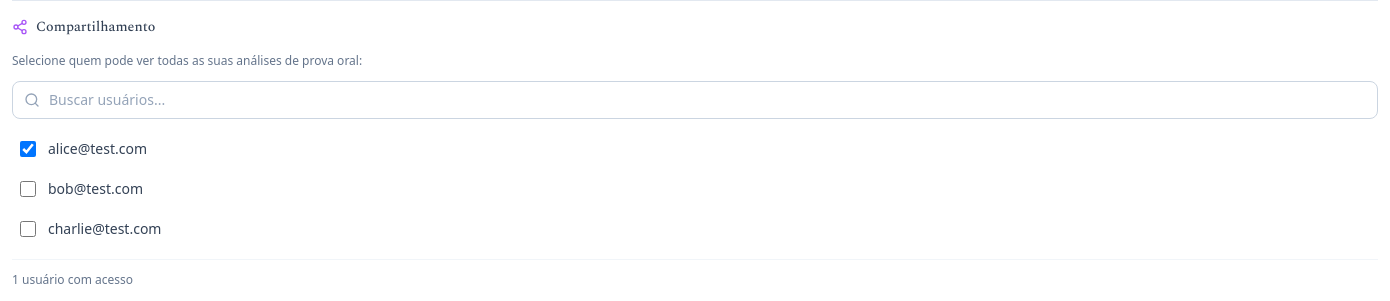
SharingSection › Search Filter › should show "Nenhum usuário encontrado" when search has no results
Expected: the number of checkboxes is 3, [20,141,36,157]; [20,181,36,197]; [20,221,36,237]
Type "nonexistent@user.com" into the field with placeholder "Buscar usuários..." at (695, 100), box [12,81,1378,119]
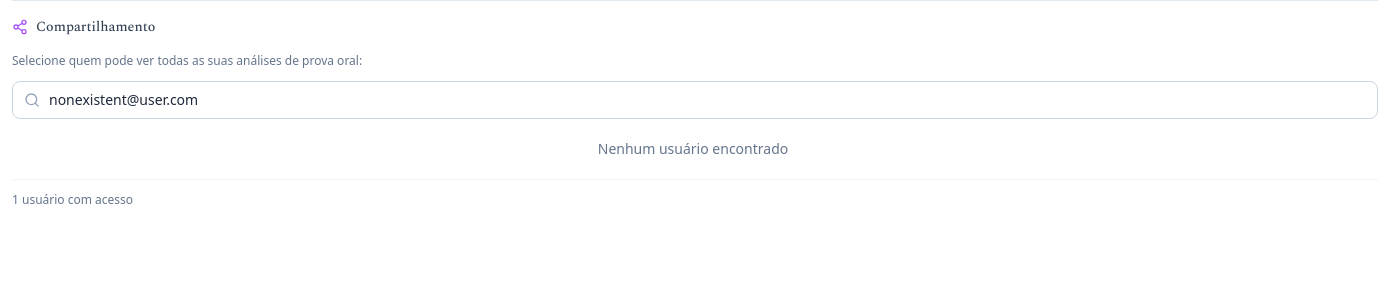
Result: the text "Nenhum usuário encontrado" is shown at [598,139,788,158]
